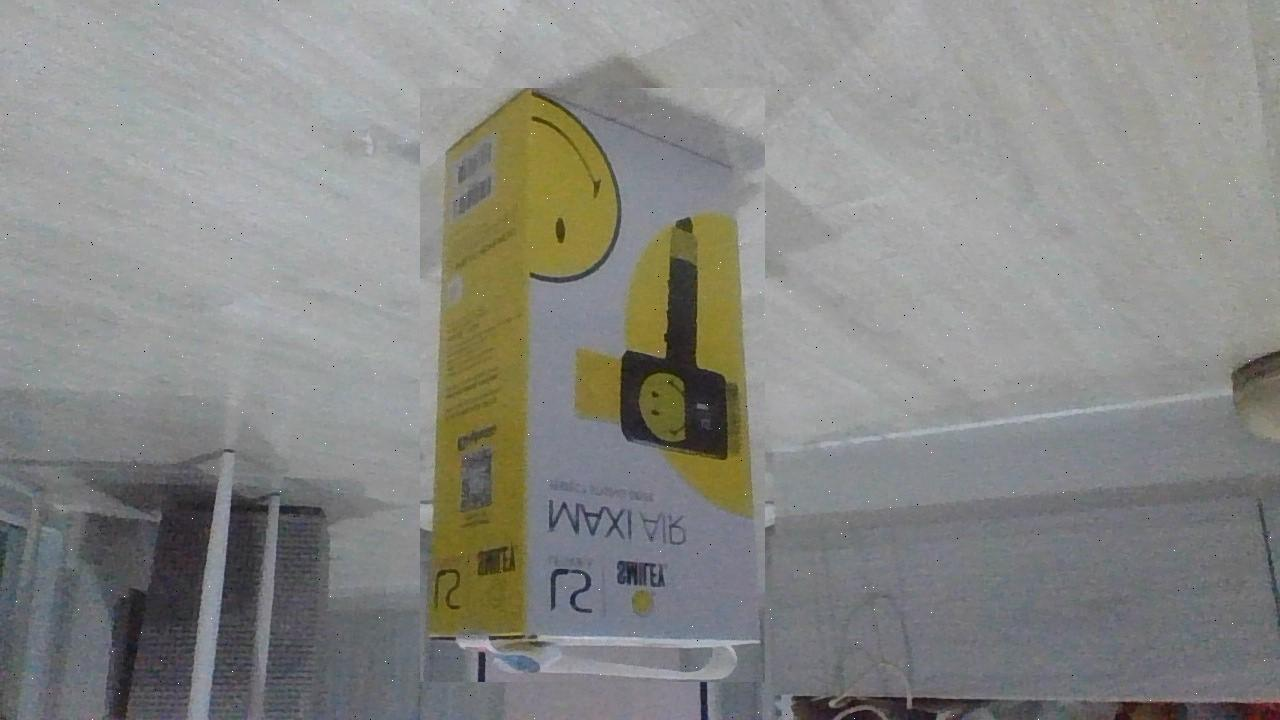Dryer: (420, 88, 765, 682)
